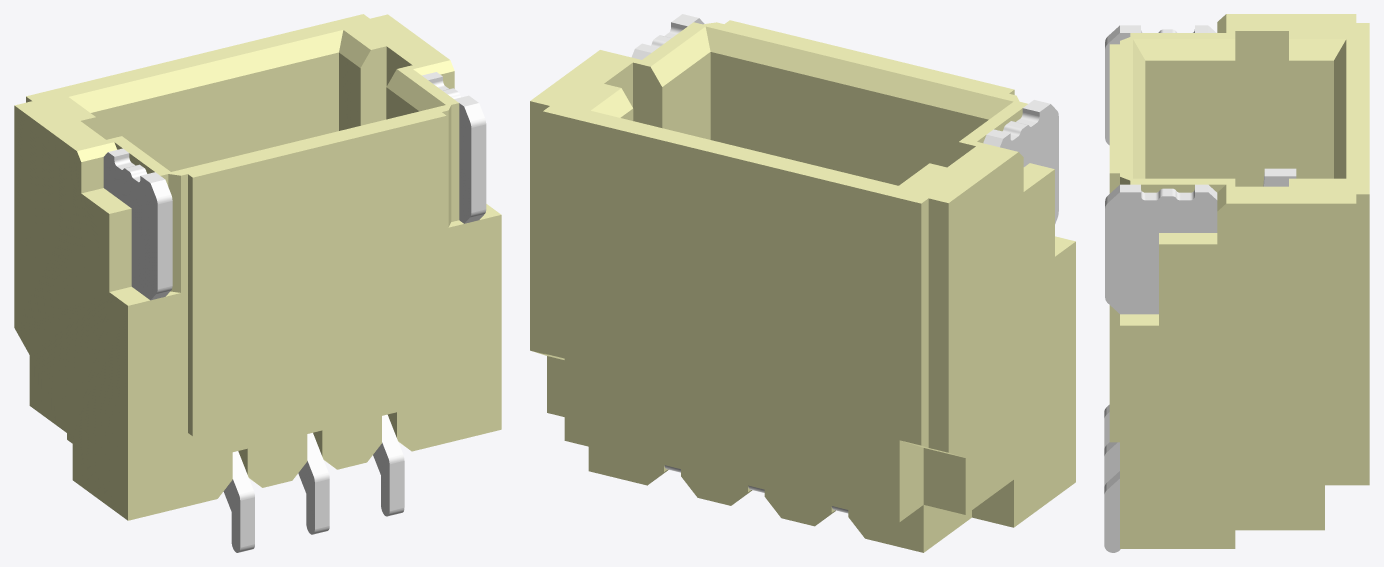
The model's file is sfe-jst_smd_1.0mm-3.glb.
3 views of the same model, side by side, from view 1: azimuth 30°, elevation 25°; view 2: azimuth 150°, elevation 25°; view 3: azimuth 270°, elevation 25° (orthographic). The views are drawn at different scales.
Parts seen in each view (by area): view 1: 1_1_0.5_0, 1_1_1_0.85; view 2: 1_1_0.5_0, 1_1_1_0.85; view 3: 1_1_0.5_0, 1_1_1_0.85.
Boxes of the visible parts, <box> form: 1_1_0.5_0: <box>14,14,501,520</box>; 1_1_1_0.85: <box>103,72,486,552</box>; 1_1_0.5_0: <box>530,20,1075,552</box>; 1_1_1_0.85: <box>631,14,1058,513</box>; 1_1_0.5_0: <box>1109,14,1369,548</box>; 1_1_1_0.85: <box>1104,25,1296,552</box>.
Bounding box in the file's own units: 0.5 × 0.495 × 0.296.
